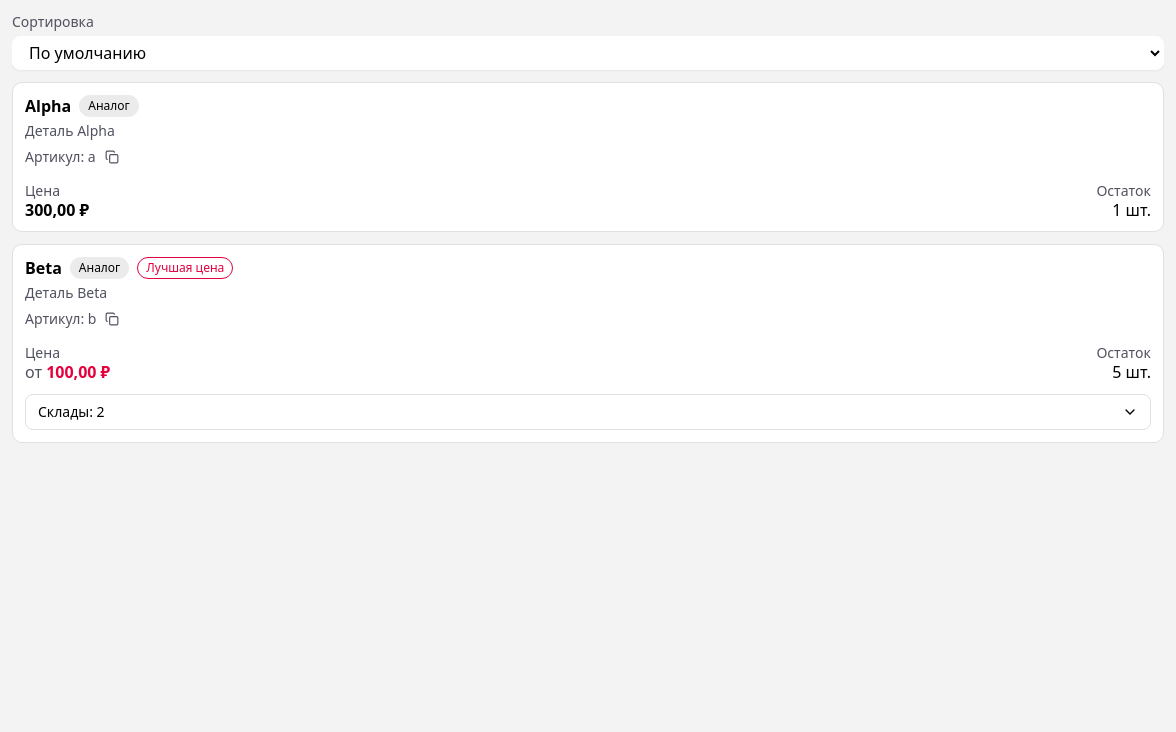
Scenario: OffersTable › на узком экране › склады раскрываются кнопкой «Склады: N»
This screenshot has width=1176, height=732.
Click the button "Склады: 2".
click(71, 411)  # box left=25, top=394, right=1151, bottom=430
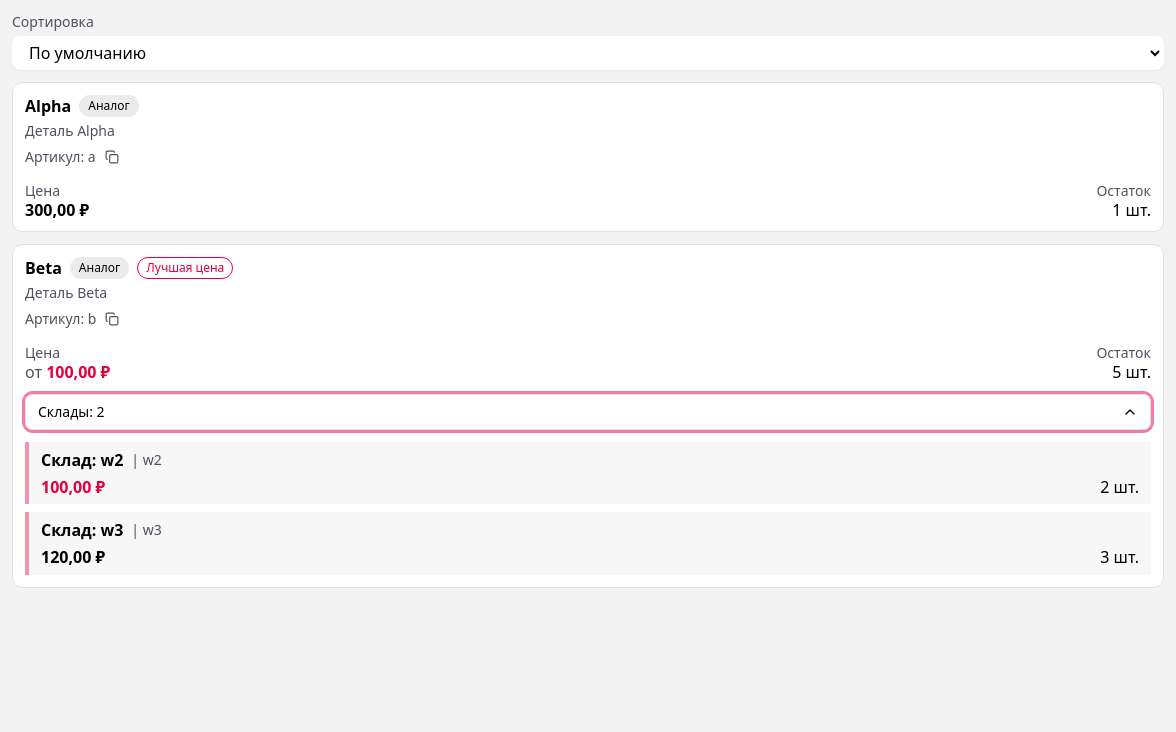
Result: the button "Склады: 2" is expanded at left=25, top=394, right=1151, bottom=430
Result: the text "Склад: w3" is shown at left=41, top=521, right=123, bottom=539
